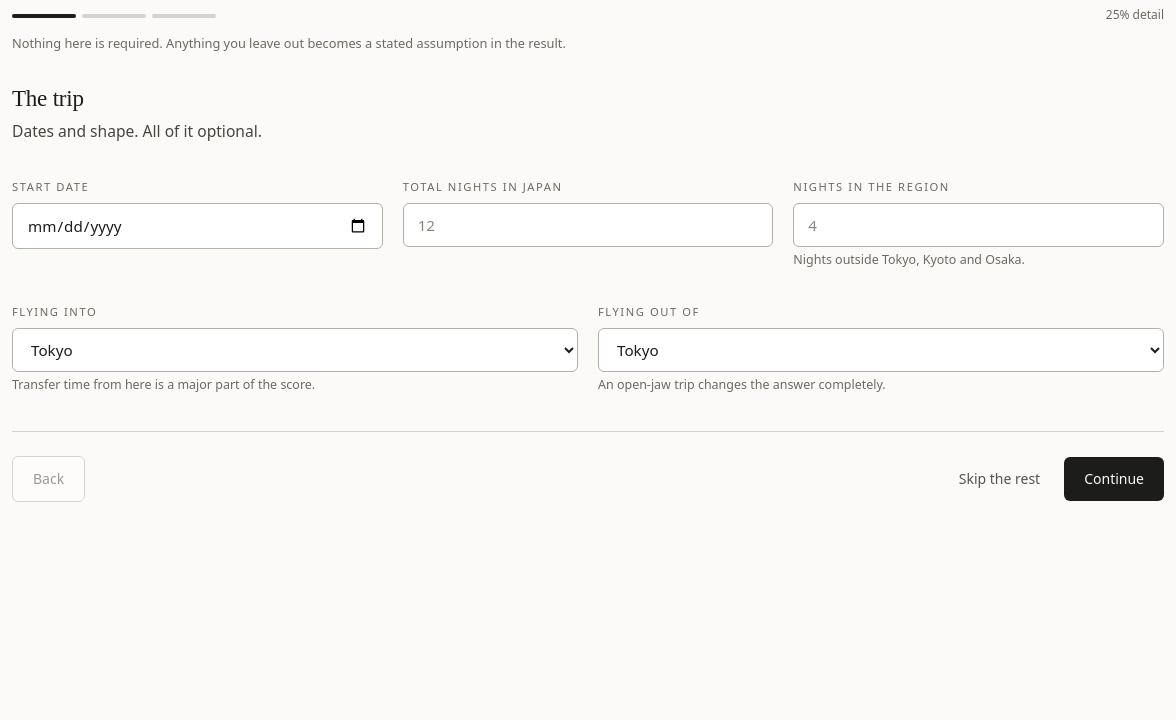
Test: WhereNextForm › announces that it is working while the analysis runs
The width and height of the screenshot is (1176, 720).
Click the button "Continue". click: [1114, 479]
box: [1064,457,1164,501]
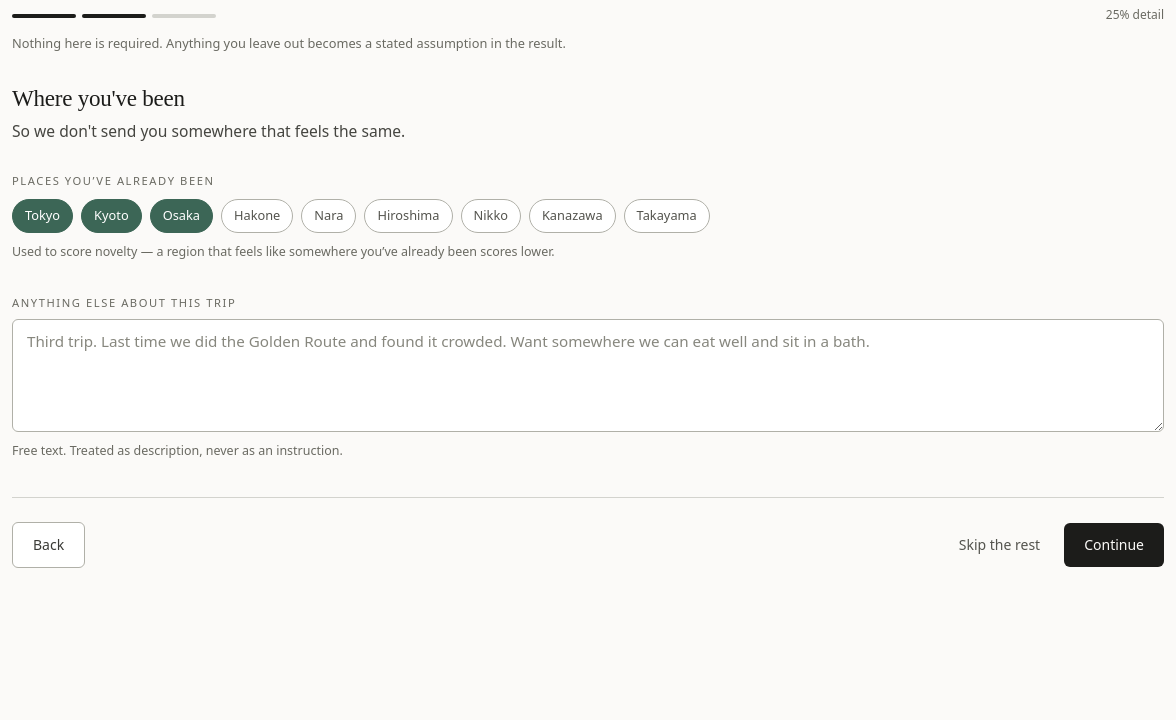
Click the button "Continue". click: [1114, 545]
box: [1064,523,1164,567]
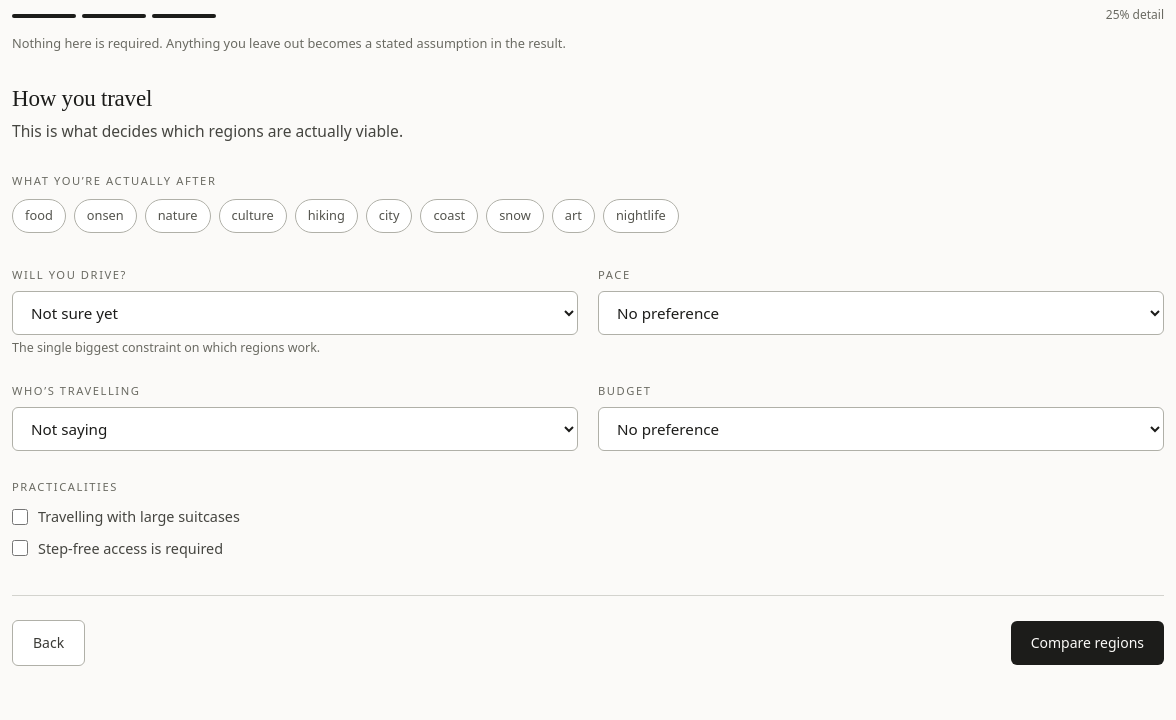
Click the button "Compare regions". click: [1087, 643]
box: [1011,621,1164,665]
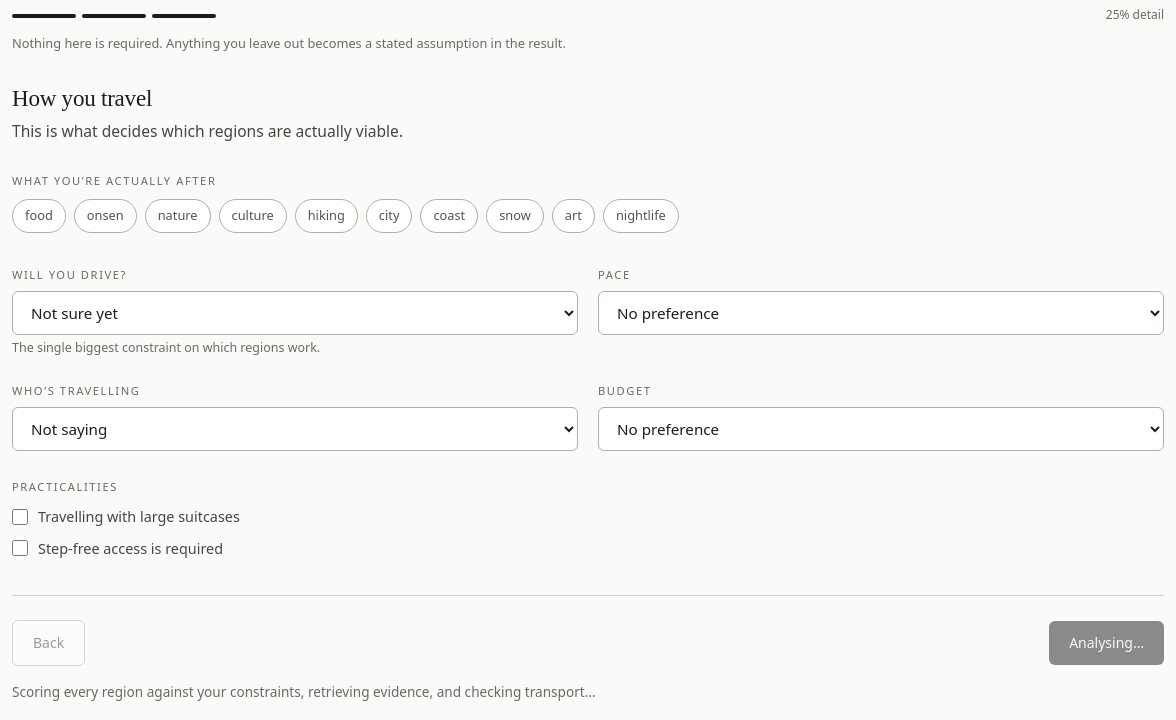
expect the button "Analysing…" is disabled: met, box [1049,621,1164,665]
expect the message shows "Scoring every region": met, box [12,682,595,701]
